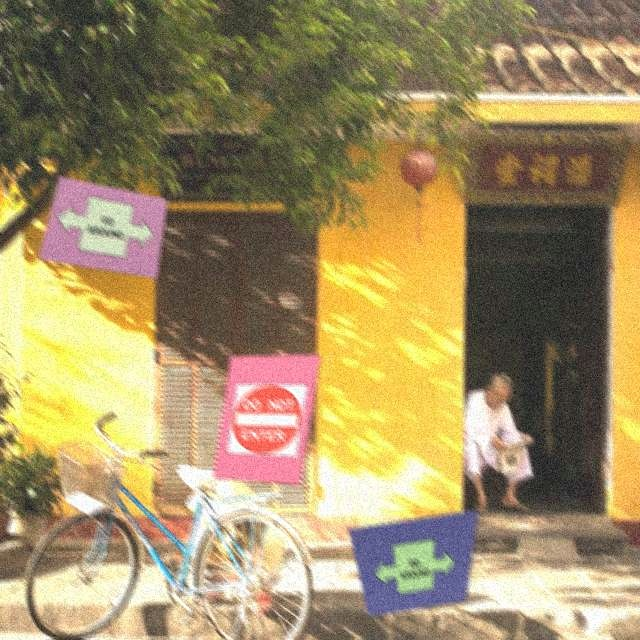DO_NOT_ENTER: (227, 381, 309, 458)
GO_AROUND: (51, 191, 162, 266), (371, 536, 464, 598)
